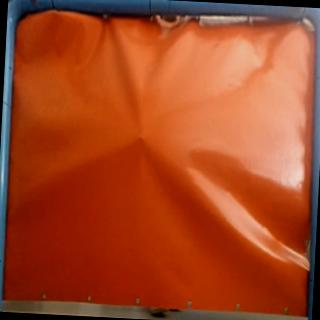Hit-hRxx: (133, 131, 151, 145)
